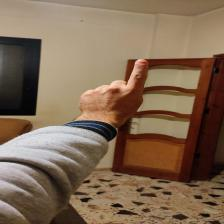one: (72, 57, 155, 124)
